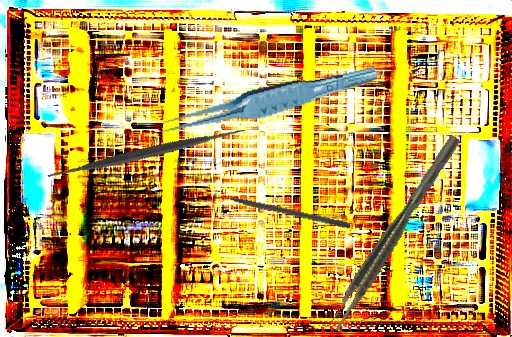Pusher: (208, 188, 352, 230)
Spatula Surgical: (37, 44, 256, 263)
Tissue Forceps: (322, 133, 468, 335), (154, 64, 381, 137)
